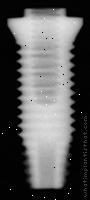Biomet 3i: (0, 6, 84, 193)
